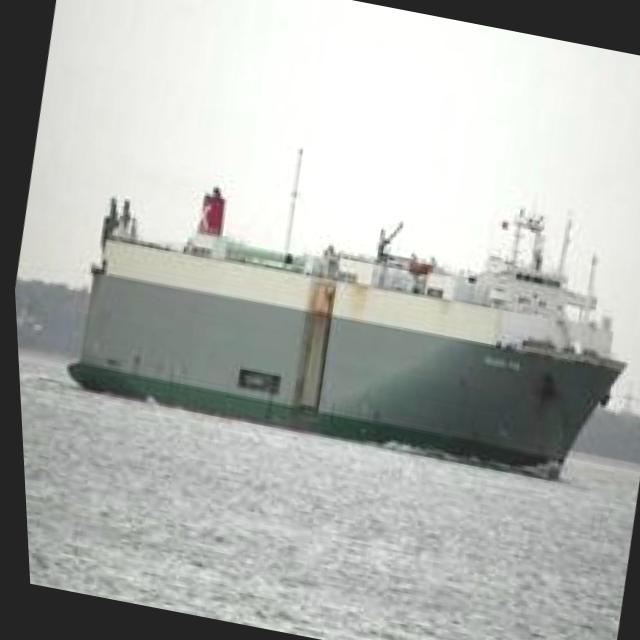ship2: (61, 148, 622, 484)
